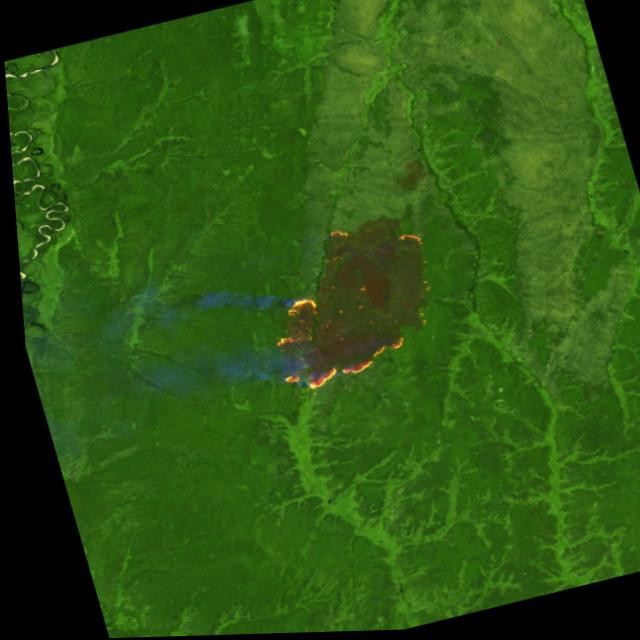fire: (250, 277, 412, 402), (385, 226, 427, 258), (316, 224, 350, 250)
